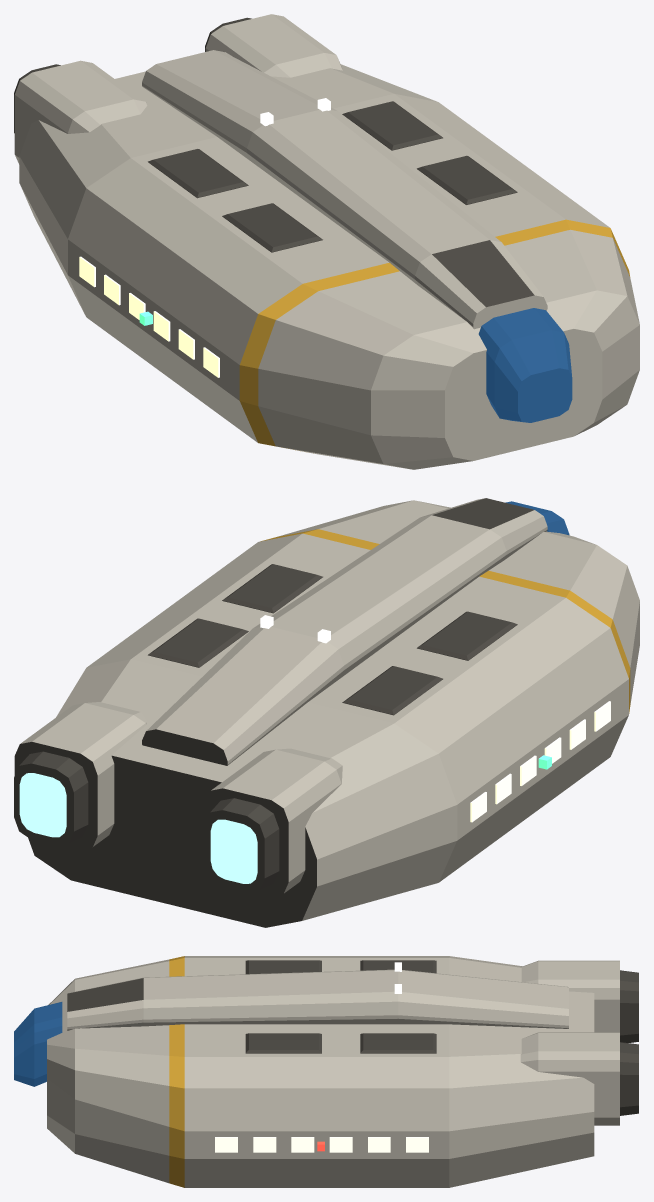
File: type-6.glb
3 views of the same model, one above another, from view 1: azimuth 30°, elevation 25°; view 2: azimuth 150°, elevation 25°; view 3: azimuth 270°, elevation 25° (orthographic). The views are drawn at different scales.
Visible parts, largest first — view 1: type-6; view 2: type-6; view 3: type-6.
Part boxes in pixels (box(x1,y1,x2,y2)): type-6: box(14, 14, 639, 469); type-6: box(14, 498, 639, 927); type-6: box(14, 956, 638, 1187).
Size of the model in its own units: 28.46 by 16.04 by 49.18.
